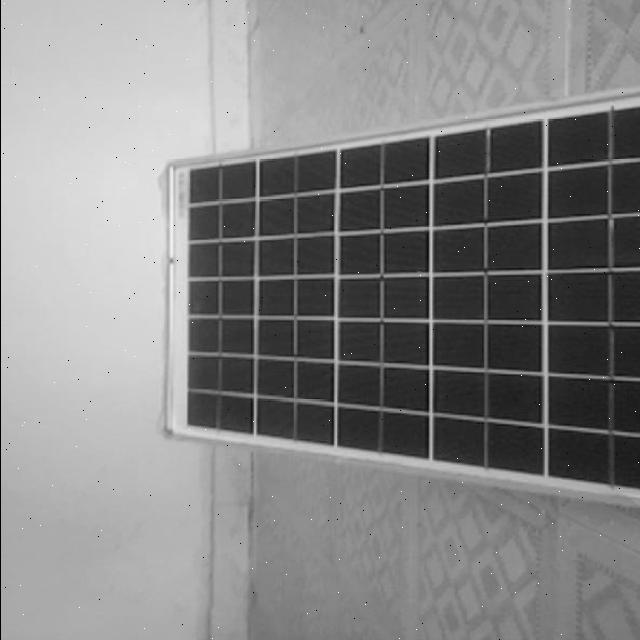Normal Solar Panel: (166, 80, 640, 502)
